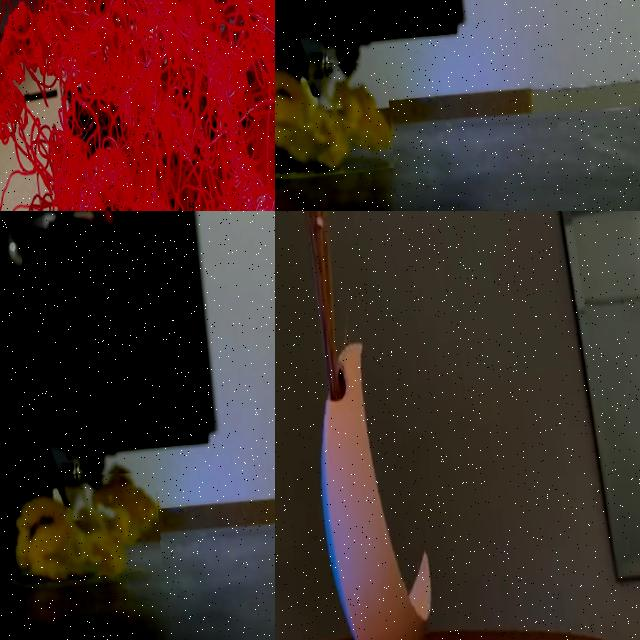spaghetti: (0, 0, 275, 211), (14, 472, 158, 580), (275, 67, 394, 180)
